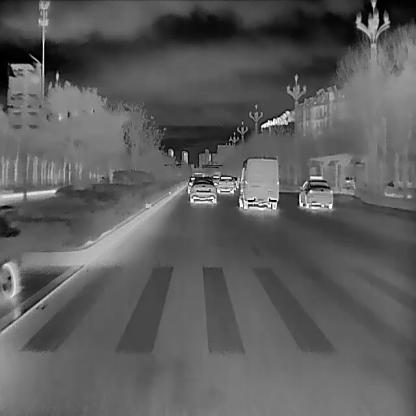car: (239, 156, 278, 210), (298, 176, 332, 210), (188, 177, 216, 203), (216, 175, 235, 193)
